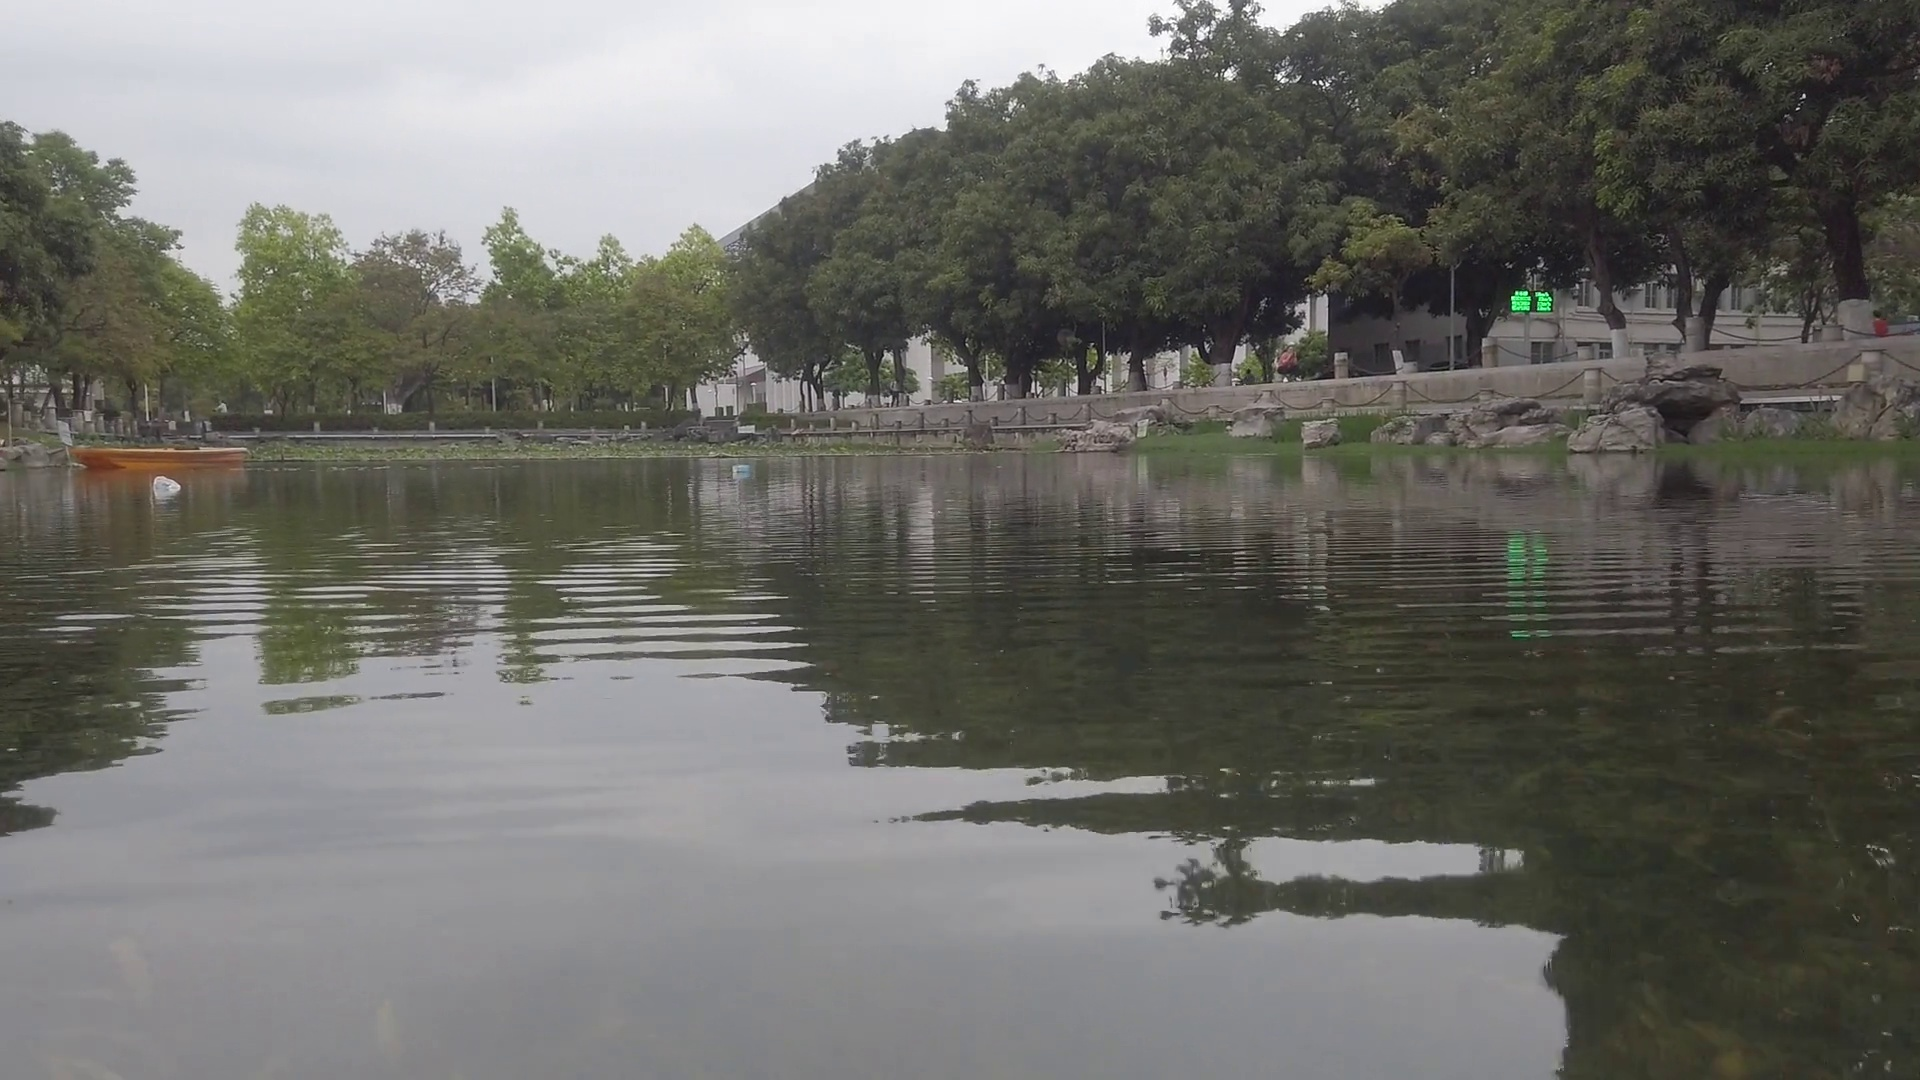carton: (731, 465, 752, 472)
plastic: (152, 477, 185, 493)
